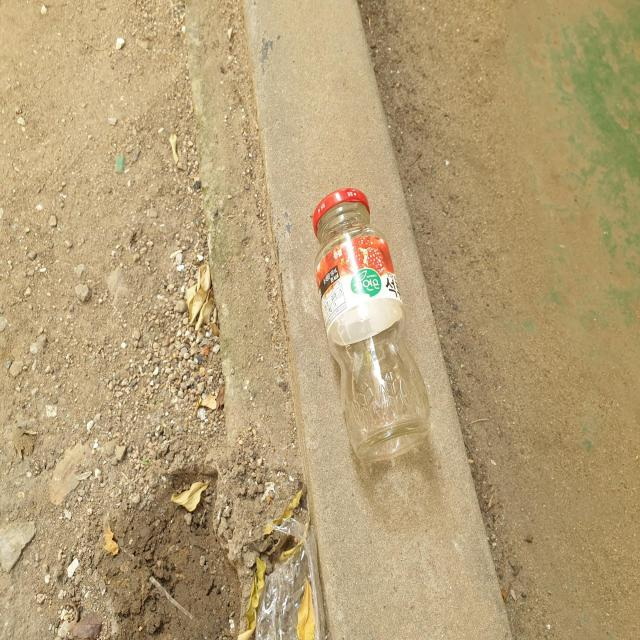glass: (314, 189, 431, 462)
